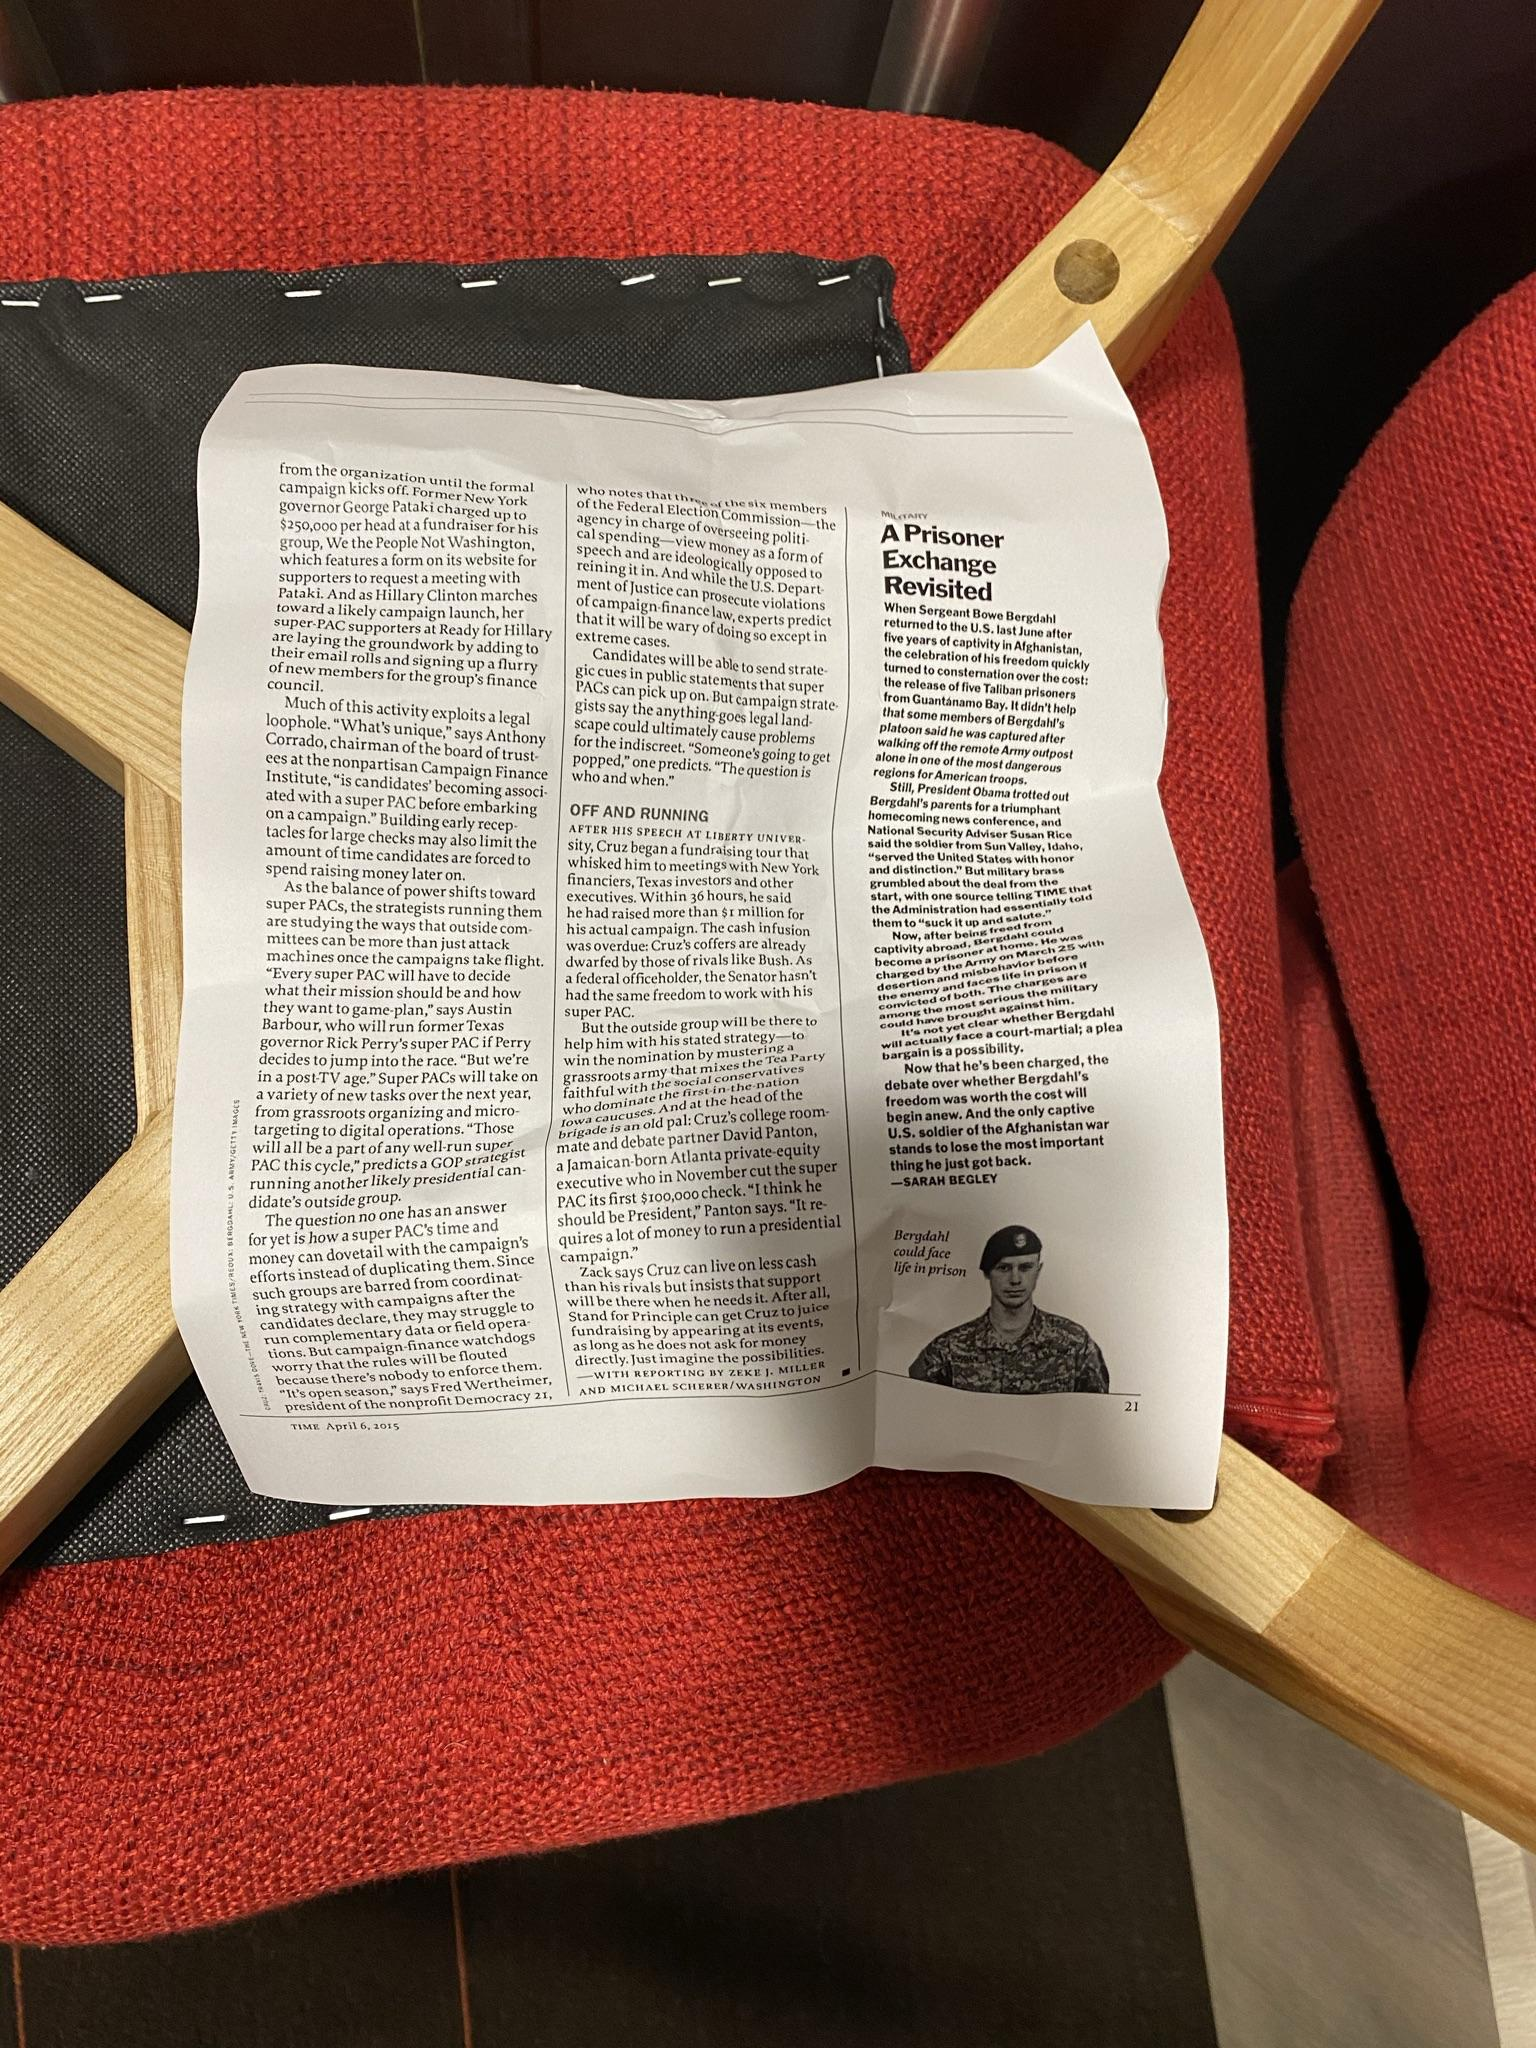paper: (153, 260, 1354, 1569)
